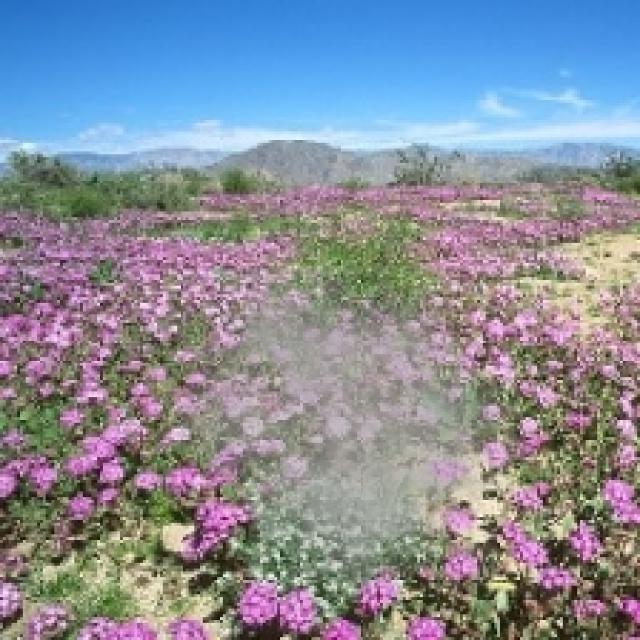smoke: (151, 268, 540, 626)
